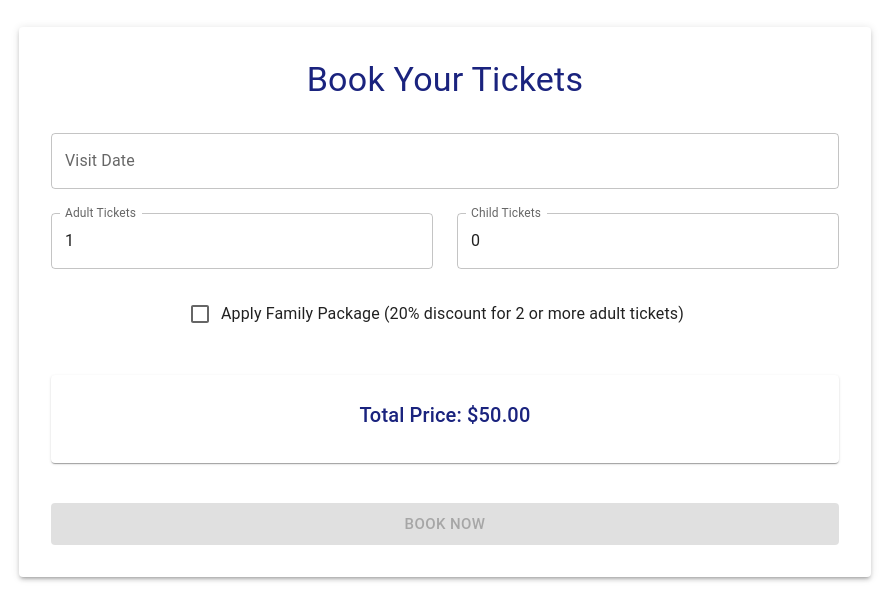
TicketBooking › calculates total price correctly
Replace the text in the number field labelled "Adult Tickets" with "2" at (242, 241), box x1=51 y1=213 x2=433 y2=269
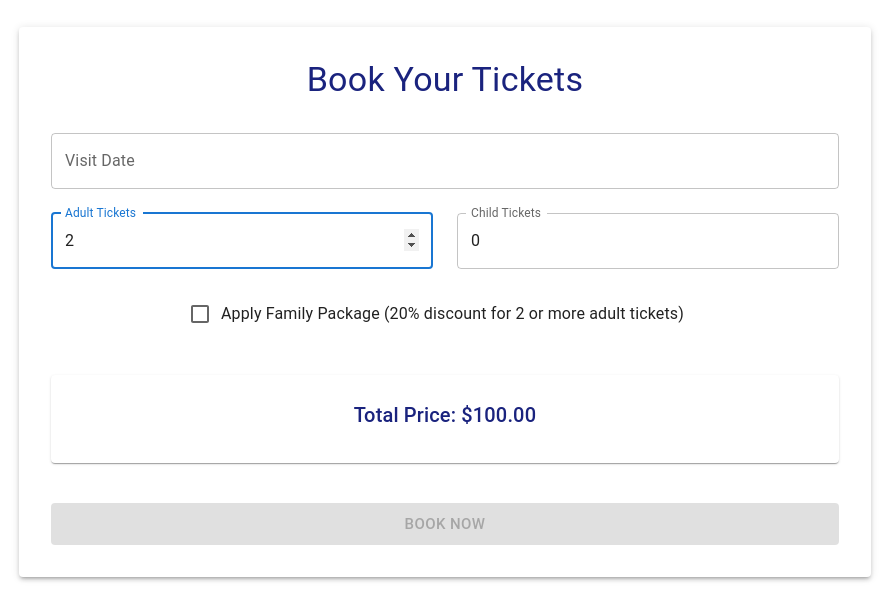
Replace the text in the number field labelled "Child Tickets" with "1" at (648, 241), box x1=457 y1=213 x2=839 y2=269
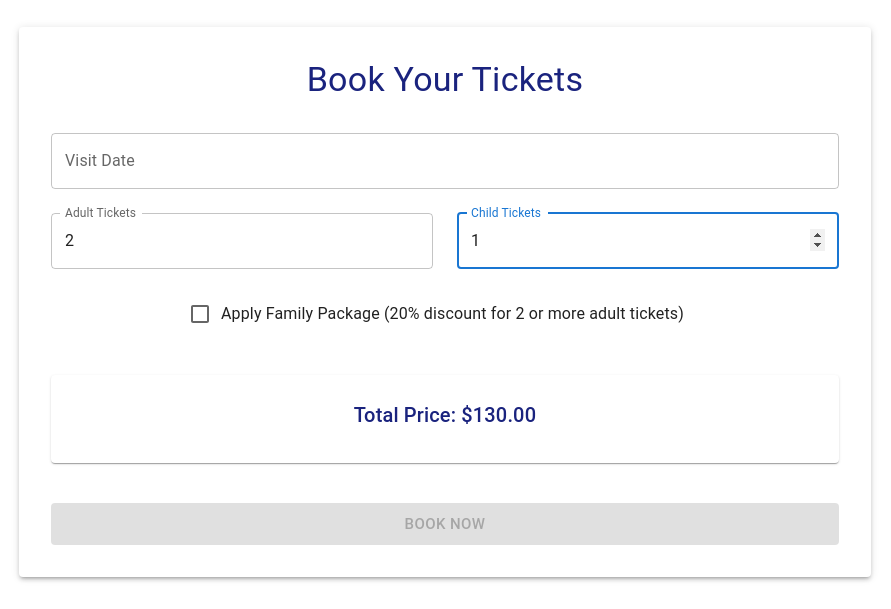
Expected: the heading "Total Price: $130.00" is shown, x1=354 y1=403 x2=536 y2=427
// Apply family discount
Click the checkbox labelled "Apply Family Package".
click(436, 314)  # box x1=188 y1=302 x2=684 y2=326
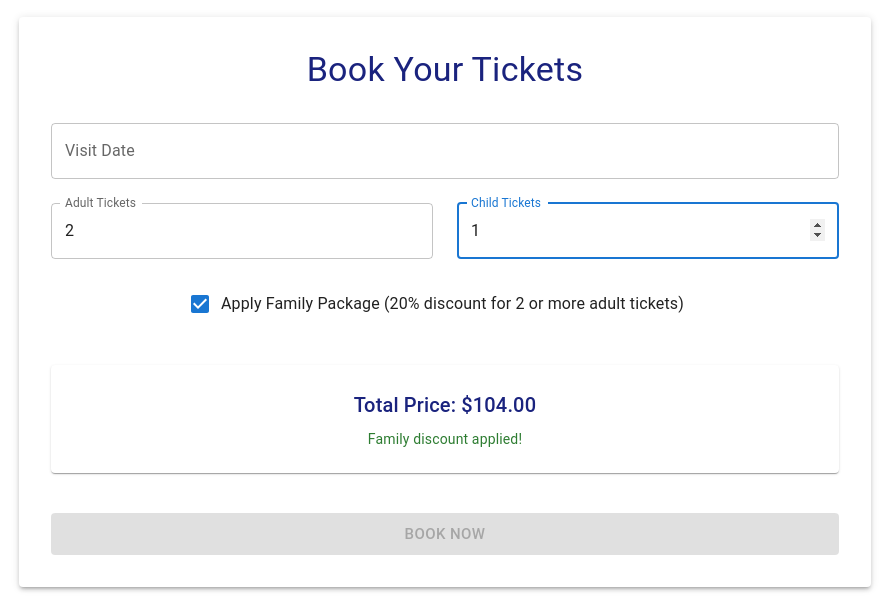
Expected: the heading "Total Price: $104.00" is shown, x1=354 y1=393 x2=536 y2=417
Expected: the text "Family discount applied!" is shown, x1=368 y1=431 x2=522 y2=447
